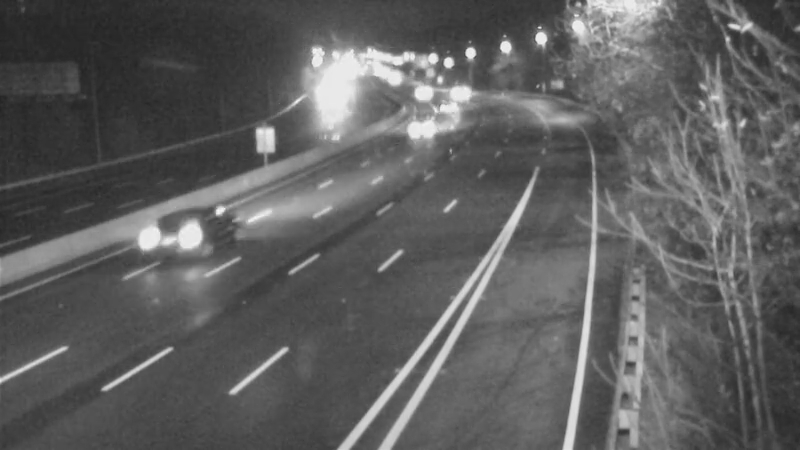vehicle: (131, 200, 211, 280), (393, 66, 443, 116), (434, 66, 484, 116), (426, 82, 476, 132), (397, 104, 447, 154), (304, 80, 354, 130)
